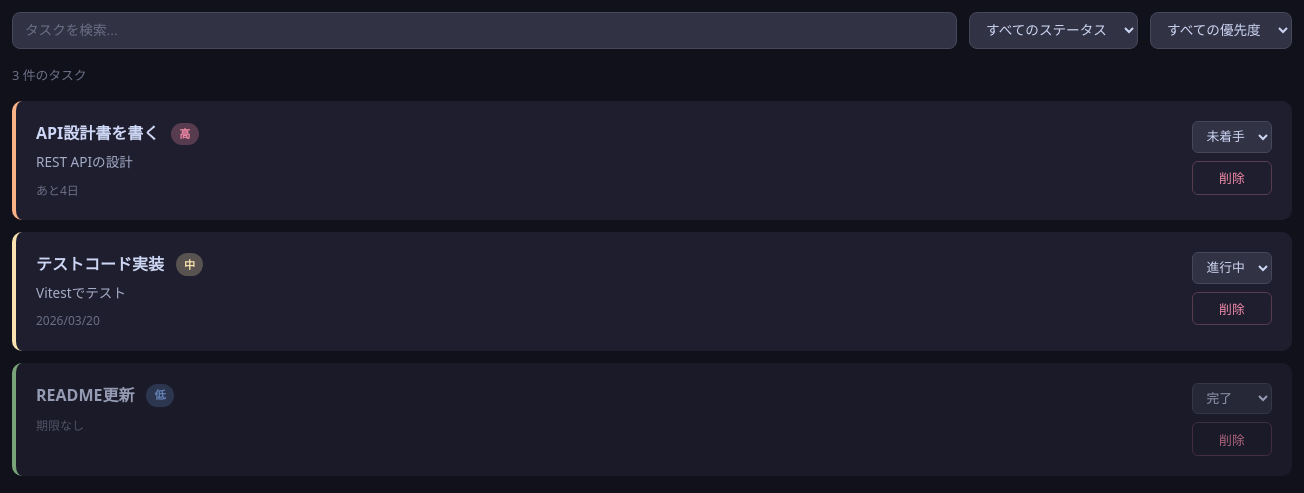
TaskList.vue › 検索 › タイトルで検索できる
Type "API" into the field with test id "search-input".
click(484, 30); type("API")  # box [12,12,957,49]
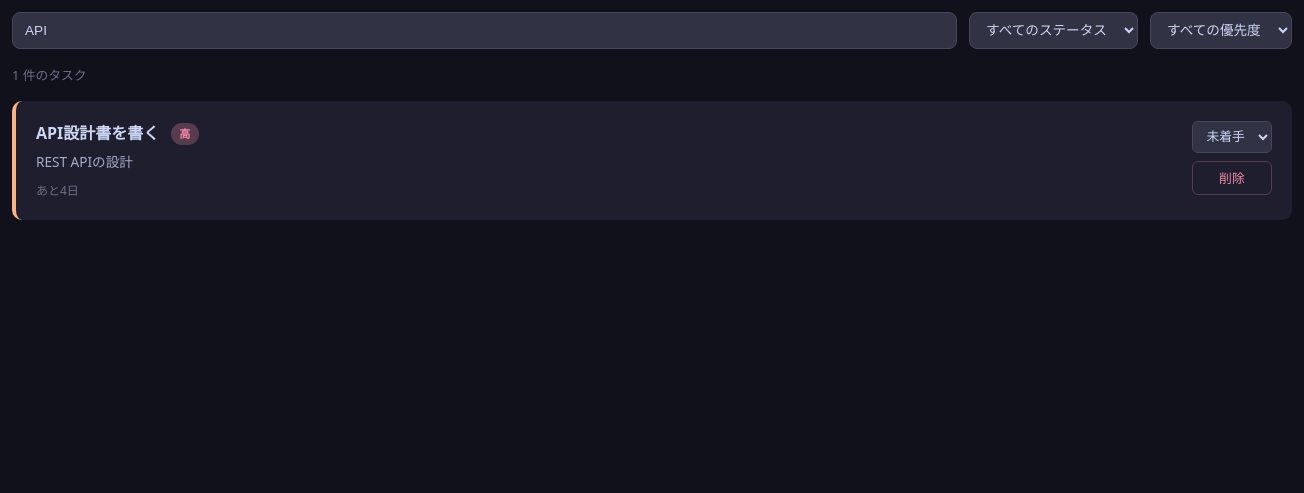
Expected: the text with test id "task-count" shows "1", [12,66,87,84]
